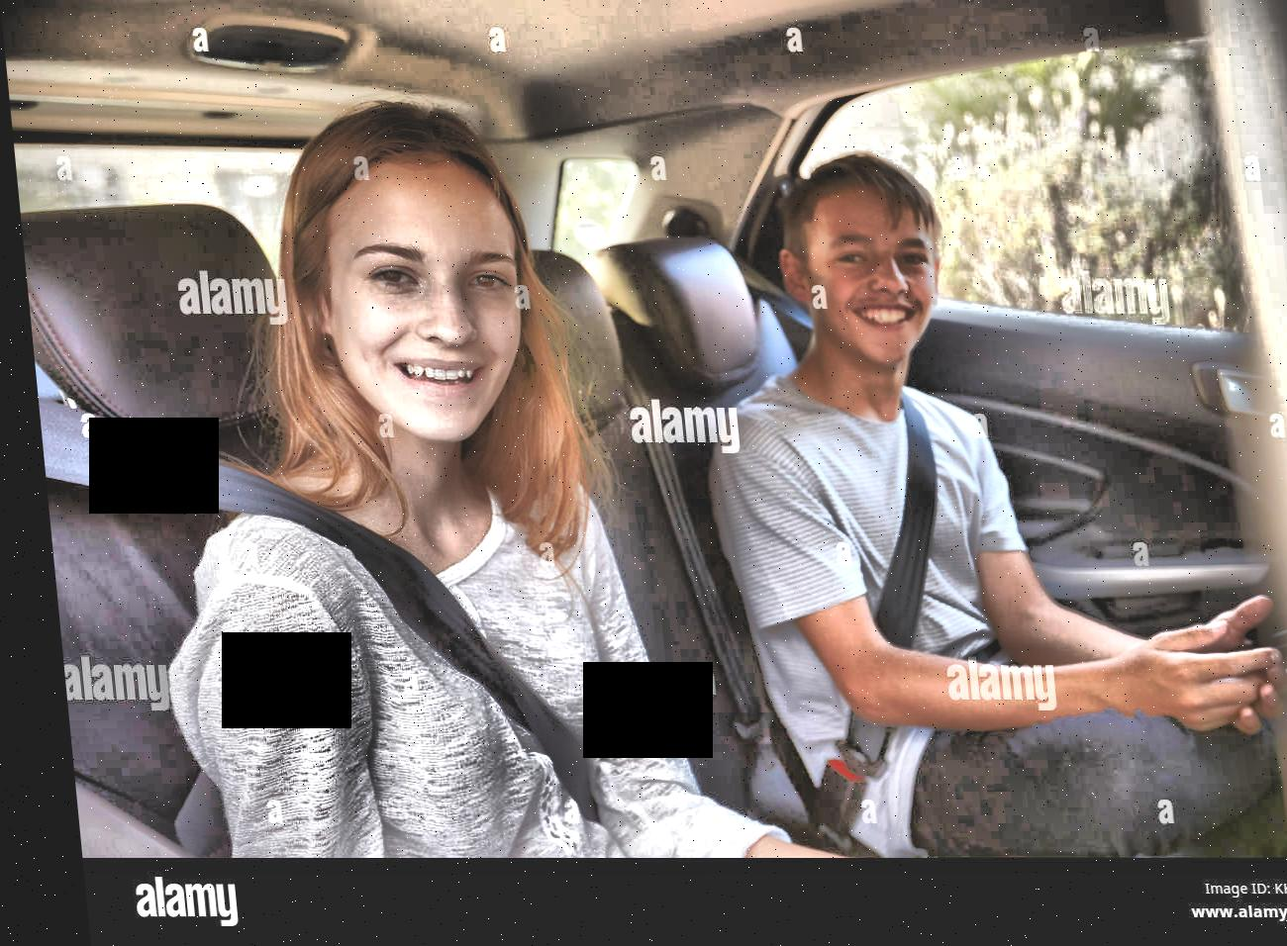seatbelt: (37, 394, 602, 821), (672, 210, 965, 831)
